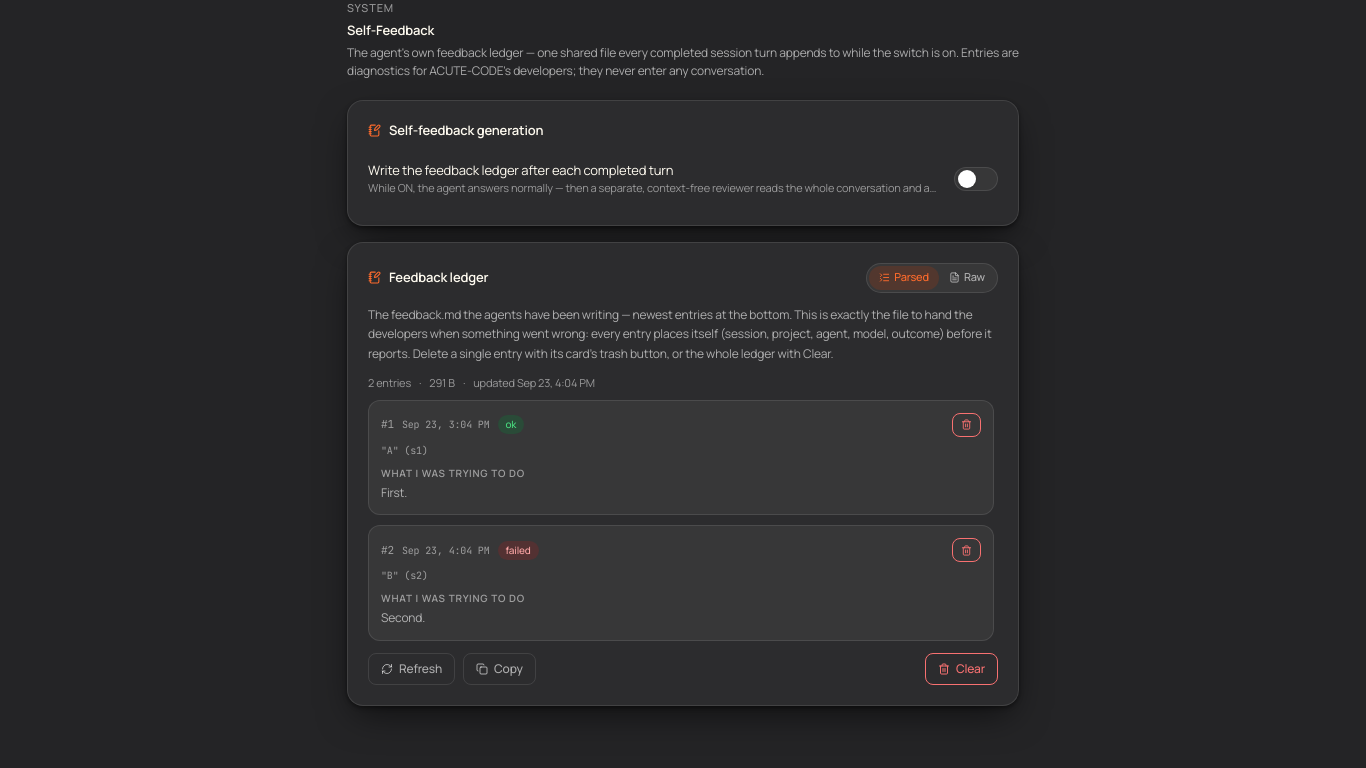
Test: R122: the feedback ledger viewer card › R123: the PER-ENTRY delete — the styled confirm, DELETE /feedback/file/entry/:index, and the survivors re-render
Expected: the element with test id "feedback-parsed-list" shows "First.", [381,484,407,500]
Expected: the element with test id "feedback-parsed-list" shows "Second.", [381,609,425,626]
# Delete the FIRST entry (index 0) via its card's trash button.
Step 1. Click the button with test id "feedback-entry-delete" → coordinates (966, 424), box [952,412,981,436]
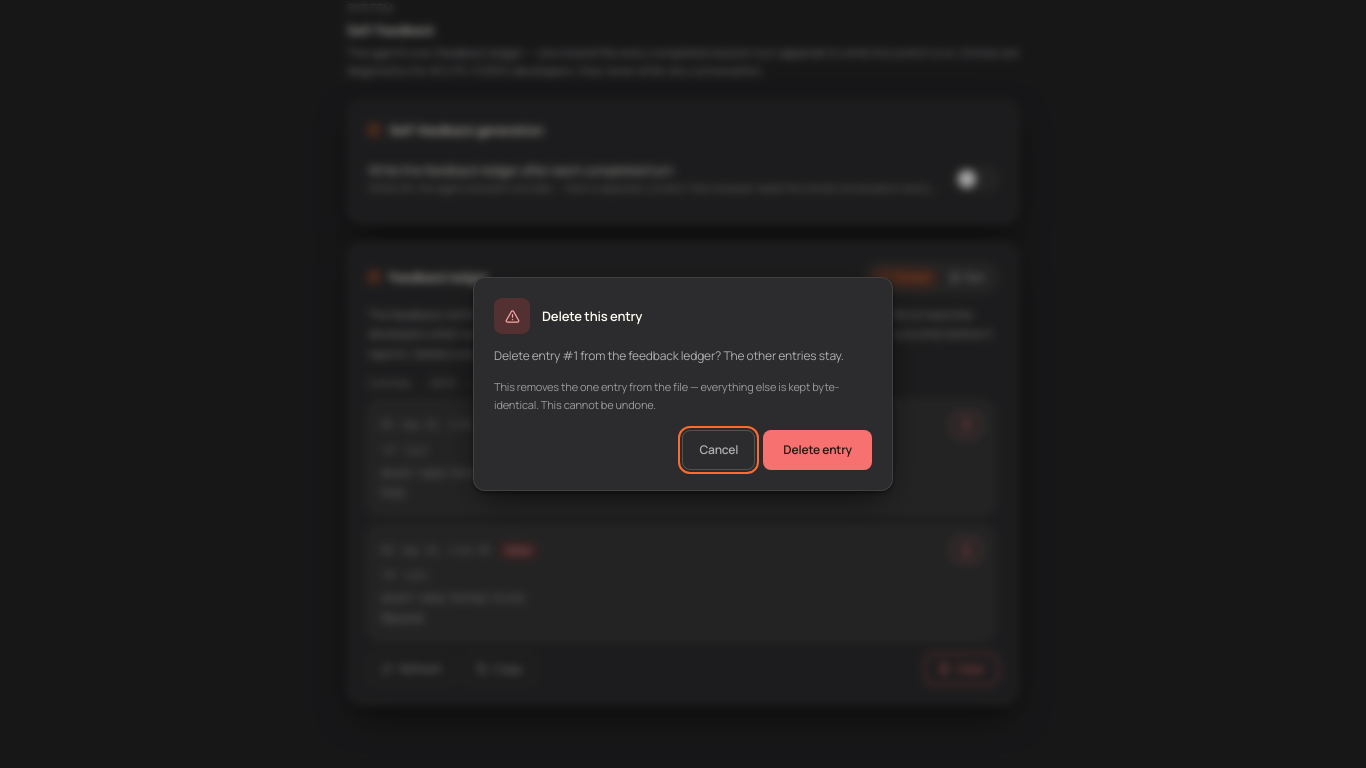
Expected: the text "Delete this entry" is shown, [542,307,642,326]
Expected: the text "Delete entry #1" is shown, [494,347,844,364]
Step 2. Click the button "Delete entry" → coordinates (818, 450), box [763,430,872,470]
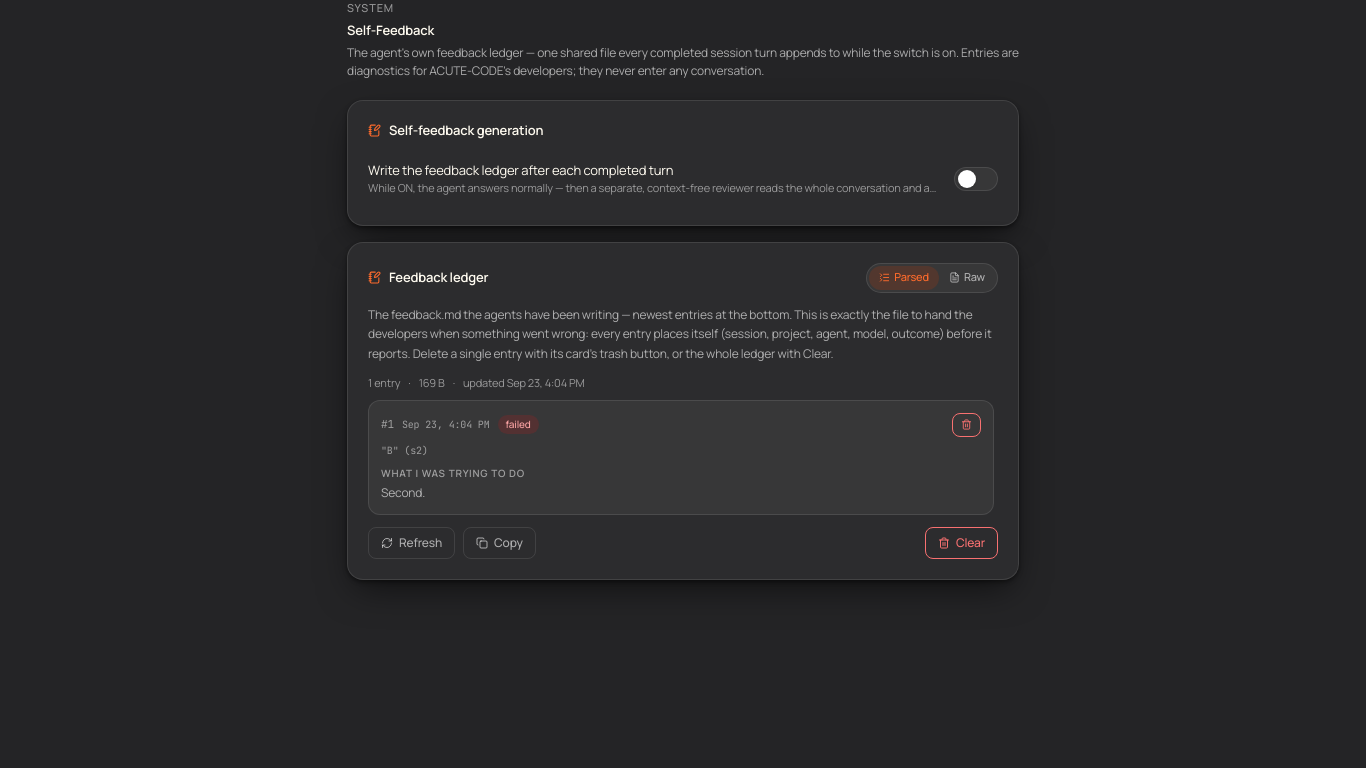
Expected: the element with test id "feedback-parsed-list" shows "Second.", [381,484,425,500]
Expected: the text "First." is gone
